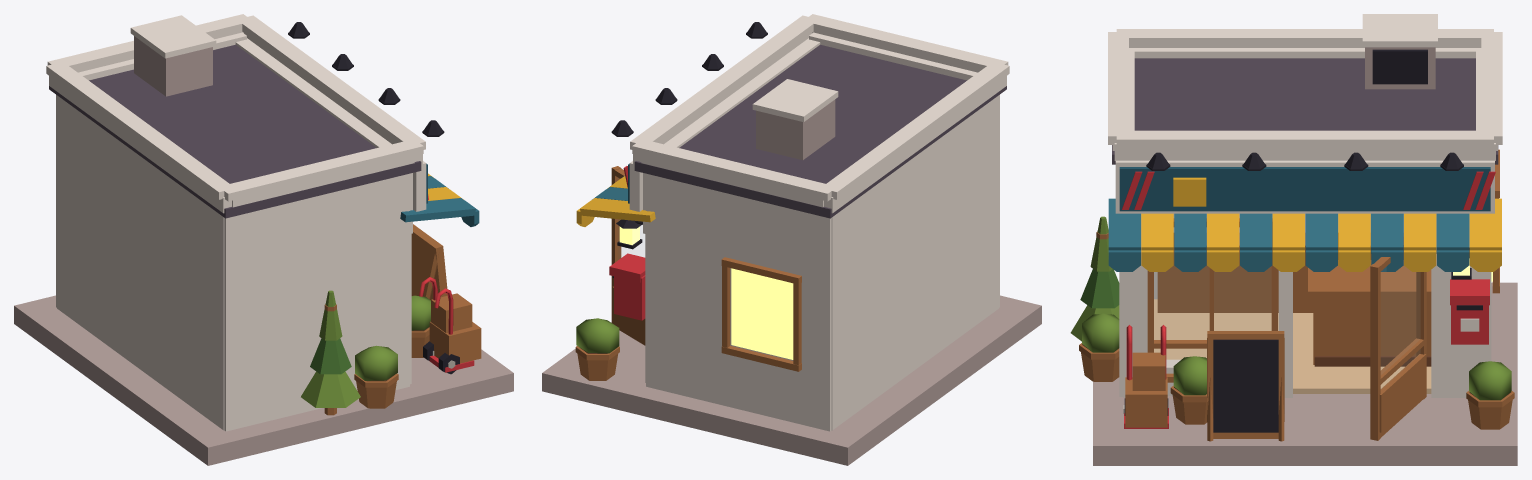
3 renders of one model, left to right at view 1: azimuth 30°, elevation 25°; view 2: azimuth 150°, elevation 25°; view 3: azimuth 270°, elevation 25°, orthographic. The views are drawn at different scales.
Parts seen in each view (by area): view 1: body_pal_picketWhite, roof_pal_asphalt, roof_pal_picketWhite, body_pal_sidewalk, body_pal_woodWarm, body_pal_grass, roof_pal_sidewalk, body_pal_polo, body_pal_foliageDark, roof_pal_uiDark, body_pal_survivorRed; view 2: body_pal_picketWhite, roof_pal_picketWhite, body_pal_sidewalk, roof_pal_asphalt, window_side_emi_windowGlow, body_pal_woodWarm, roof_pal_sidewalk, body_pal_survivorRed, body_pal_schoolBusYellow, door_main_pal_woodWarm, body_pal_grass, roof_pal_uiDark; view 3: body_pal_sidewalk, roof_pal_picketWhite, roof_pal_asphalt, body_pal_picketWhite, body_pal_poloDark, interior_pal_woodWarm, body_pal_schoolBusYellow, body_pal_woodWarm, body_pal_polo, interior_pal_canvasTan, body_pal_uiDark, door_main_pal_woodWarm (+6 smaller).
Part boxes in pixels (x1,y1,x2,y2): body_pal_picketWhite: [56, 32, 426, 431]; roof_pal_asphalt: [49, 44, 421, 218]; roof_pal_picketWhite: [46, 14, 425, 213]; body_pal_sidewalk: [14, 295, 513, 465]; body_pal_woodWarm: [324, 224, 481, 415]; body_pal_grass: [301, 290, 430, 407]; roof_pal_sidewalk: [134, 36, 212, 96]; body_pal_polo: [400, 176, 479, 226]; body_pal_foliageDark: [310, 338, 351, 374]; roof_pal_uiDark: [288, 22, 444, 136]; body_pal_survivorRed: [419, 194, 474, 372]; body_pal_picketWhite: [629, 32, 999, 431]; roof_pal_picketWhite: [630, 14, 1009, 213]; body_pal_sidewalk: [542, 295, 1041, 465]; roof_pal_asphalt: [634, 44, 1006, 218]; window_side_emi_windowGlow: [731, 268, 793, 359]; body_pal_woodWarm: [575, 257, 801, 380]; roof_pal_sidewalk: [756, 99, 835, 160]; body_pal_survivorRed: [609, 166, 645, 320]; body_pal_schoolBusYellow: [576, 176, 655, 226]; door_main_pal_woodWarm: [611, 166, 645, 345]; body_pal_grass: [576, 318, 619, 353]; roof_pal_uiDark: [611, 22, 767, 136]; body_pal_sidewalk: [1093, 282, 1517, 465]; roof_pal_picketWhite: [1108, 14, 1502, 160]; roof_pal_asphalt: [1112, 58, 1498, 164]; body_pal_picketWhite: [1115, 48, 1494, 397]; body_pal_poloDark: [1119, 167, 1490, 211]; interior_pal_woodWarm: [1157, 233, 1431, 364]; body_pal_schoolBusYellow: [1141, 177, 1501, 271]; body_pal_woodWarm: [1079, 149, 1514, 441]; body_pal_polo: [1108, 198, 1469, 271]; interior_pal_canvasTan: [1154, 232, 1431, 393]; body_pal_uiDark: [1124, 248, 1482, 432]; door_main_pal_woodWarm: [1370, 237, 1426, 440].
Size of the model in its own units: 4.55 by 4.31 by 5.27.
